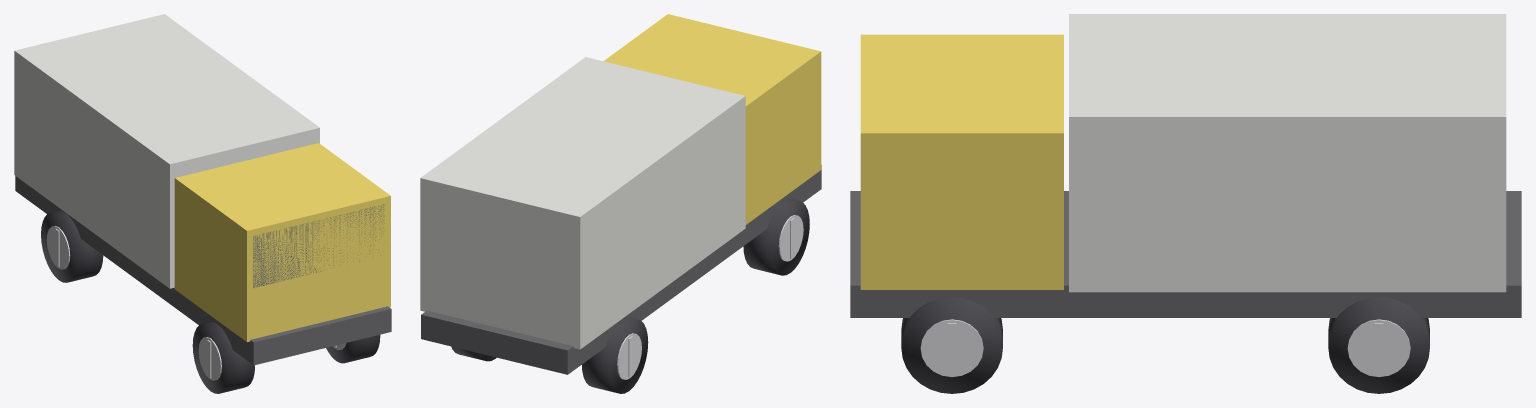
The model's file is Truck.fbx.
3 renders of one model, left to right at view 1: azimuth 30°, elevation 25°; view 2: azimuth 150°, elevation 25°; view 3: azimuth 270°, elevation 25°, orthographic. The views are drawn at different scales.
Parts seen in each view (by area): view 1: Cargo, Cab, Chassis, RearRightWheel, FrontRightWheel, Windshield, FrontLeftWheel; view 2: Cargo, Cab, Chassis, FrontRightWheel, RearRightWheel; view 3: Cargo, Cab, Chassis, FrontLeftWheel, RearLeftWheel.
Boxes of the visible parts, box(x1,y1,x2,y2) form: Cargo: box(14, 14, 319, 288); Cab: box(174, 143, 390, 342); Chassis: box(15, 176, 391, 365); RearRightWheel: box(41, 210, 103, 282); FrontRightWheel: box(192, 322, 254, 393); Windshield: box(253, 204, 384, 287); FrontLeftWheel: box(326, 335, 380, 363); Cargo: box(420, 57, 745, 349); Cab: box(604, 14, 821, 224); Chassis: box(421, 165, 821, 374); FrontRightWheel: box(743, 199, 809, 275); RearRightWheel: box(582, 317, 648, 393); Cargo: box(1069, 14, 1506, 292); Cab: box(860, 34, 1063, 289); Chassis: box(850, 191, 1521, 317); FrontLeftWheel: box(901, 297, 1002, 393); RearLeftWheel: box(1328, 297, 1429, 393).
Bounding box in the file's own units: 2.49 × 3 × 6.6.
